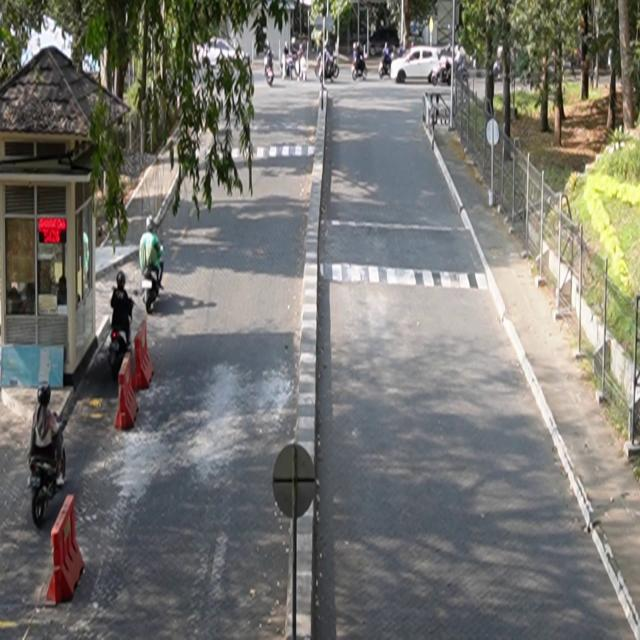car: (392, 46, 444, 85)
